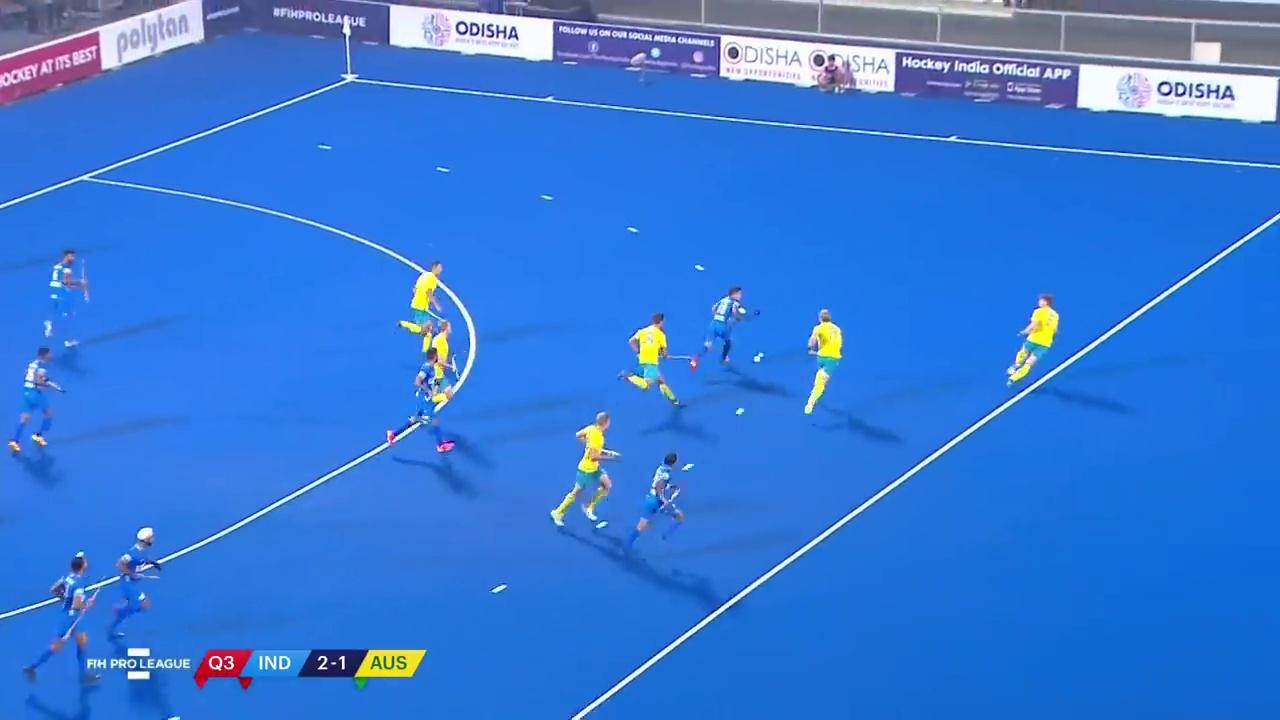ball: (749, 352, 764, 367)
